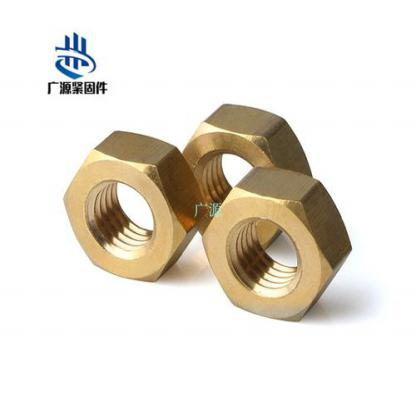FOD: (202, 163, 353, 324), (174, 100, 316, 258), (60, 129, 205, 283)
